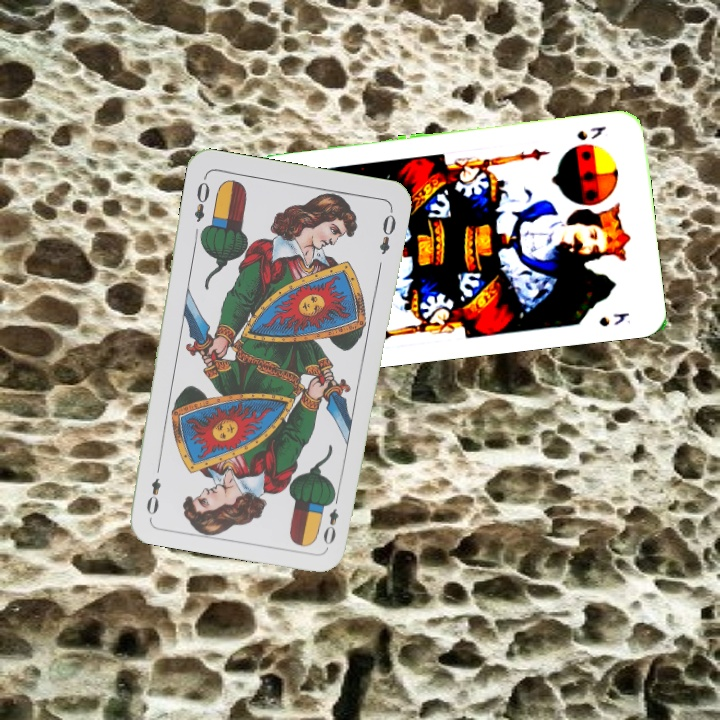EO: (319, 489, 342, 548), (190, 173, 212, 225)
SK: (573, 122, 609, 143)
